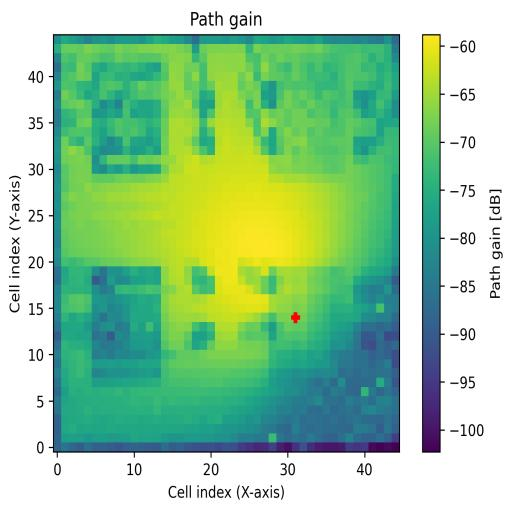Concrete: (269, 56, 346, 175)
Glass: (92, 63, 168, 174)
Metal: (270, 266, 354, 384)
Wood: (92, 267, 162, 387)
